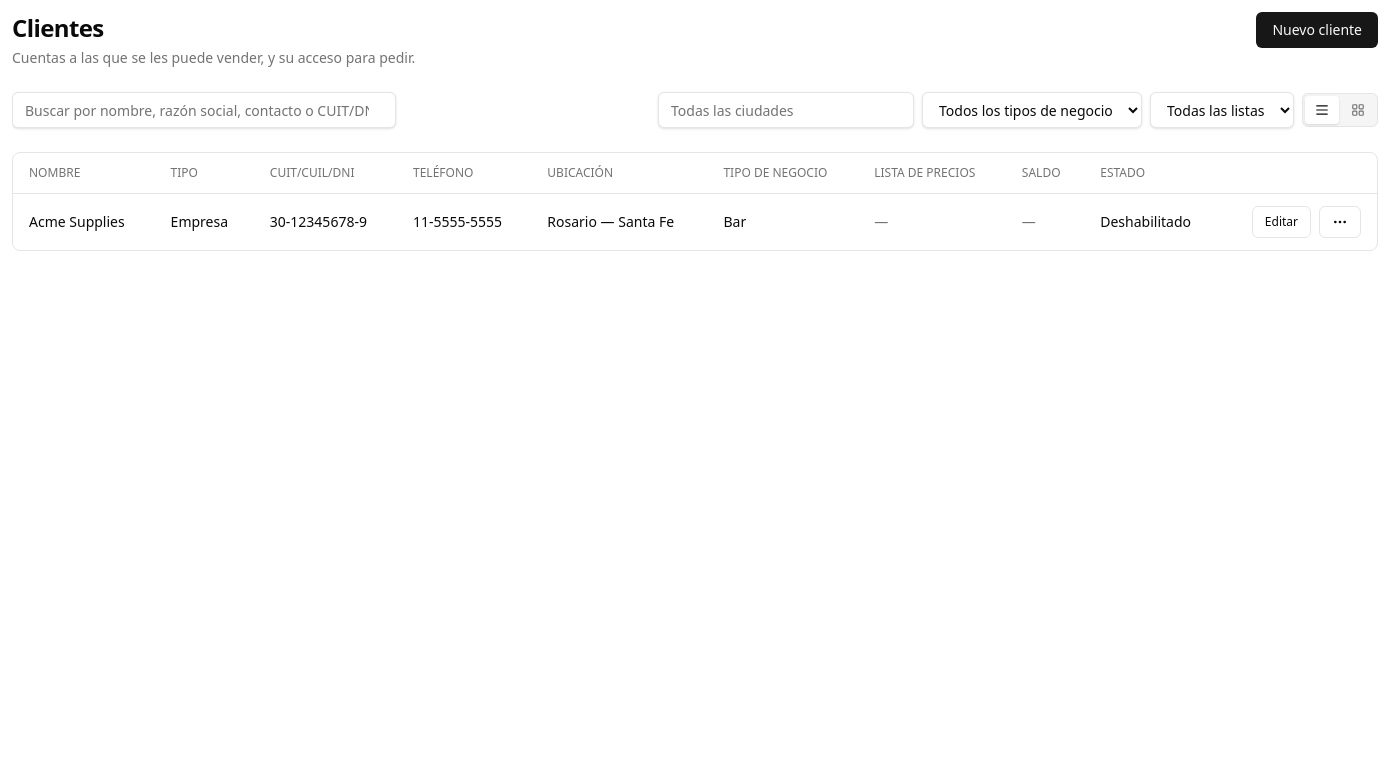
Scenario: CustomersScreen › hands the organization provinces to the form and preselects the province of the customer city
Expected: the text "Acme Supplies" is shown, [13, 194, 155, 250]
Step 1. Click the button "Editar" → coordinates (1281, 222), box [1252, 206, 1311, 238]
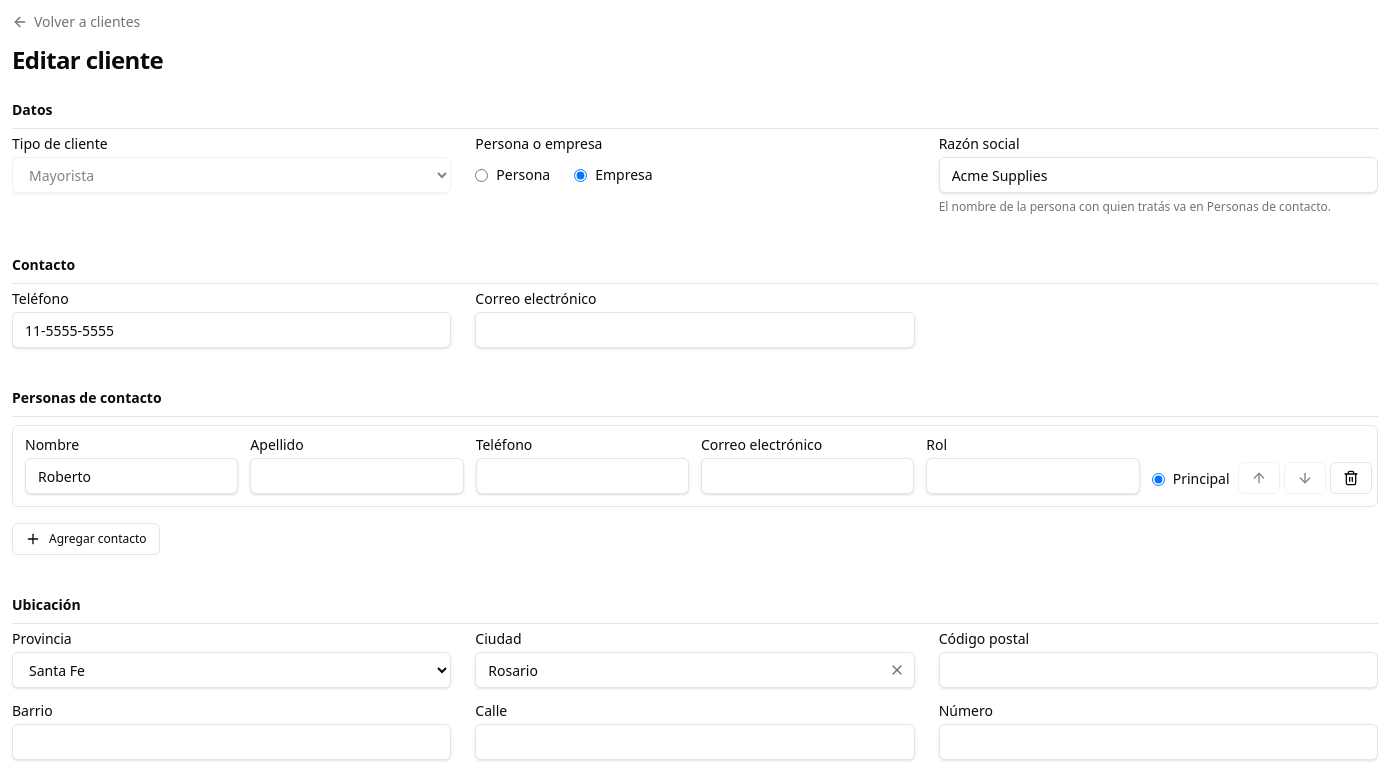
Result: the dropdown labelled "Provincia" shows "Santa Fe" at [12, 652, 451, 688]
Result: the dropdown labelled "Ciudad" holds "Rosario" at [475, 652, 915, 688]
Result: the field labelled "Razón social" holds "Acme Supplies" at [939, 157, 1378, 193]
